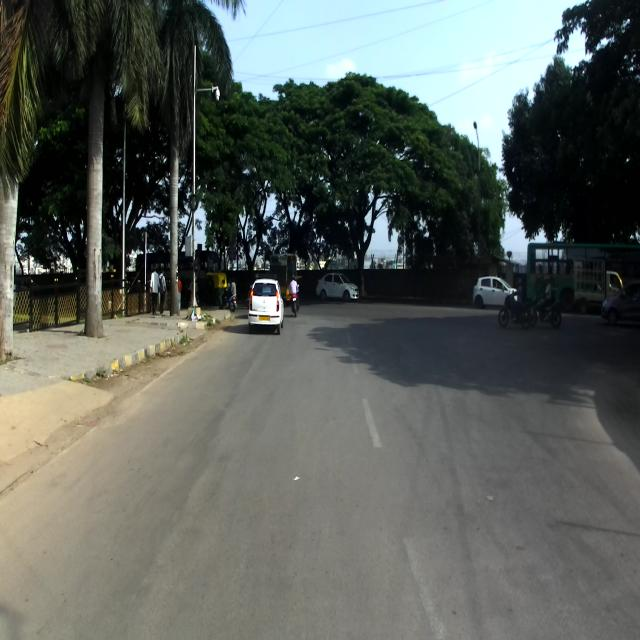tree ahead at: (73, 0, 128, 347)
